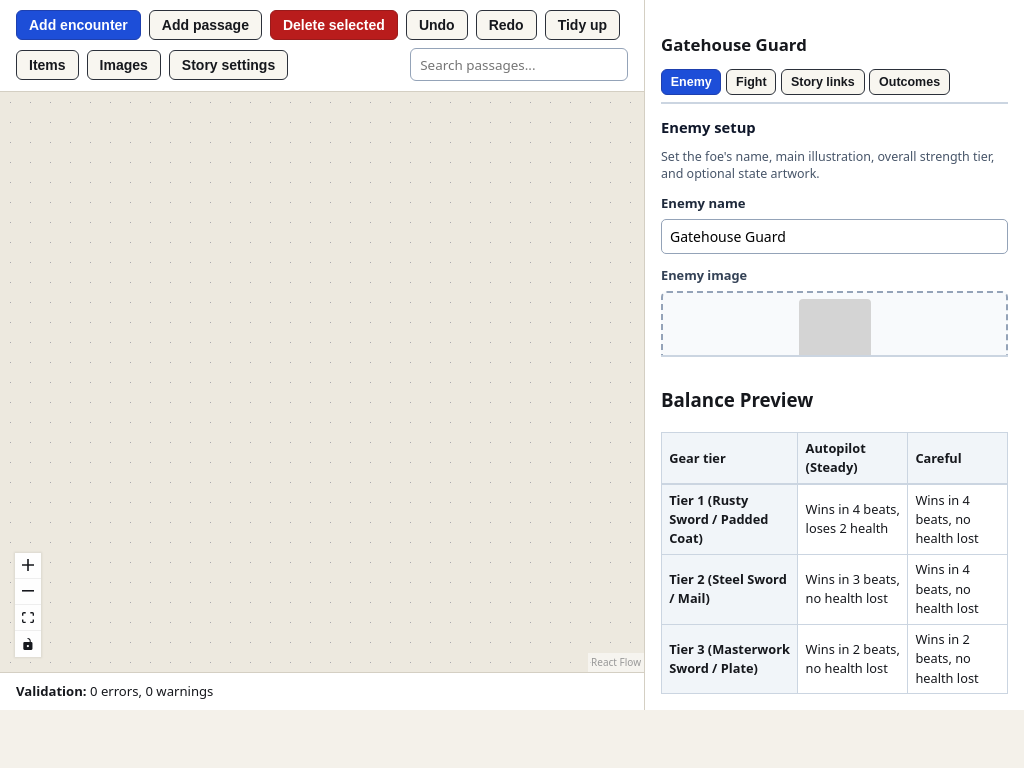
Scenario: Builder undo and redo history (#63) › asks confirmation before deleting a connected node and restores both node and edges on Undo
Earlier steps of the test are not shown.
Later steps or results of the test are not shown.
Click the button "Delete selected" at [334, 25], box [270,10,398,40]
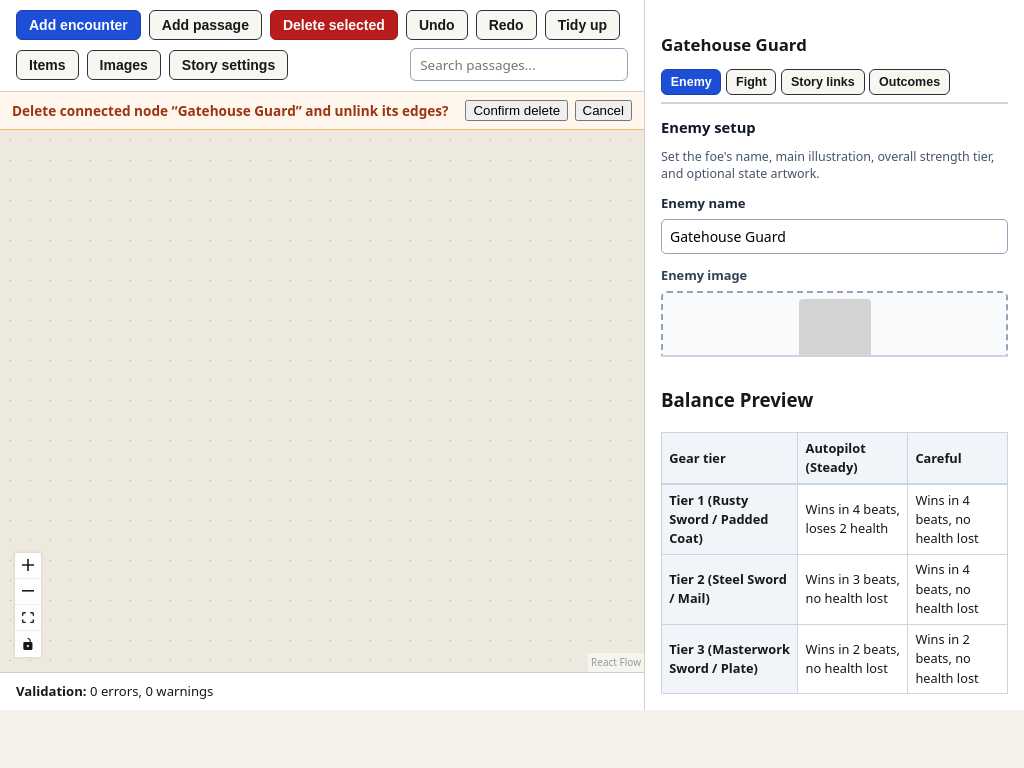
Now the dialog with test id "confirm-delete-node-dialog" is shown, box [0,92,644,130]
